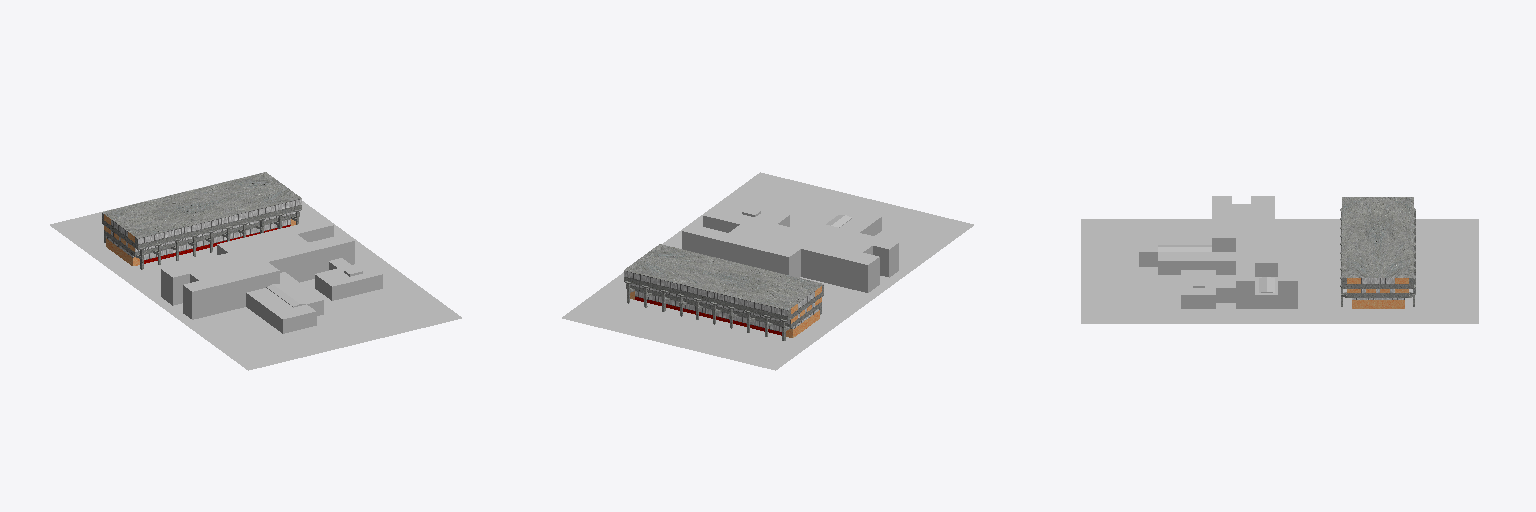
3 renders of one model, left to right at view 1: azimuth 30°, elevation 25°; view 2: azimuth 150°, elevation 25°; view 3: azimuth 270°, elevation 25°, orthographic.
Visible parts, largest first — view 1: Terrain_Plane, BlocoB_Plane.002, BlocoA_Plane.001, AColumn_Cube; view 2: Terrain_Plane, BlocoB_Plane.002, BlocoA_Plane.001, AColumn_Cube; view 3: Terrain_Plane, BlocoB_Plane.002, BlocoA_Plane.001.
Boxes of the visible parts, <box> form: Terrain_Plane: <box>50,172,461,370</box>; BlocoB_Plane.002: <box>161,218,382,333</box>; BlocoA_Plane.001: <box>102,172,301,265</box>; AColumn_Cube: <box>104,209,301,269</box>; Terrain_Plane: <box>562,172,973,370</box>; BlocoB_Plane.002: <box>682,202,898,292</box>; BlocoA_Plane.001: <box>624,244,823,337</box>; AColumn_Cube: <box>624,281,821,340</box>; Terrain_Plane: <box>1081,219,1478,323</box>; BlocoB_Plane.002: <box>1139,196,1297,308</box>; BlocoA_Plane.001: <box>1342,197,1413,308</box>.
Size of the model in its own units: 15.34 by 2.17 by 24.65.
8 materials, 4 textured.